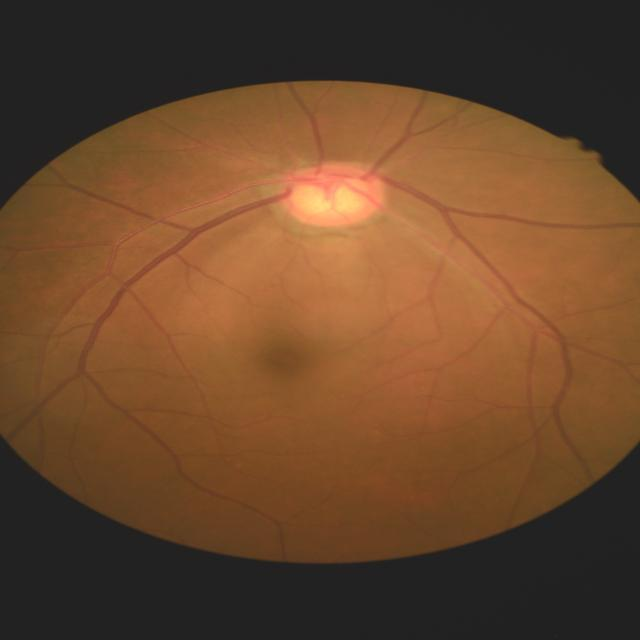cup: (293, 172, 367, 210)
disk: (283, 157, 387, 225)
